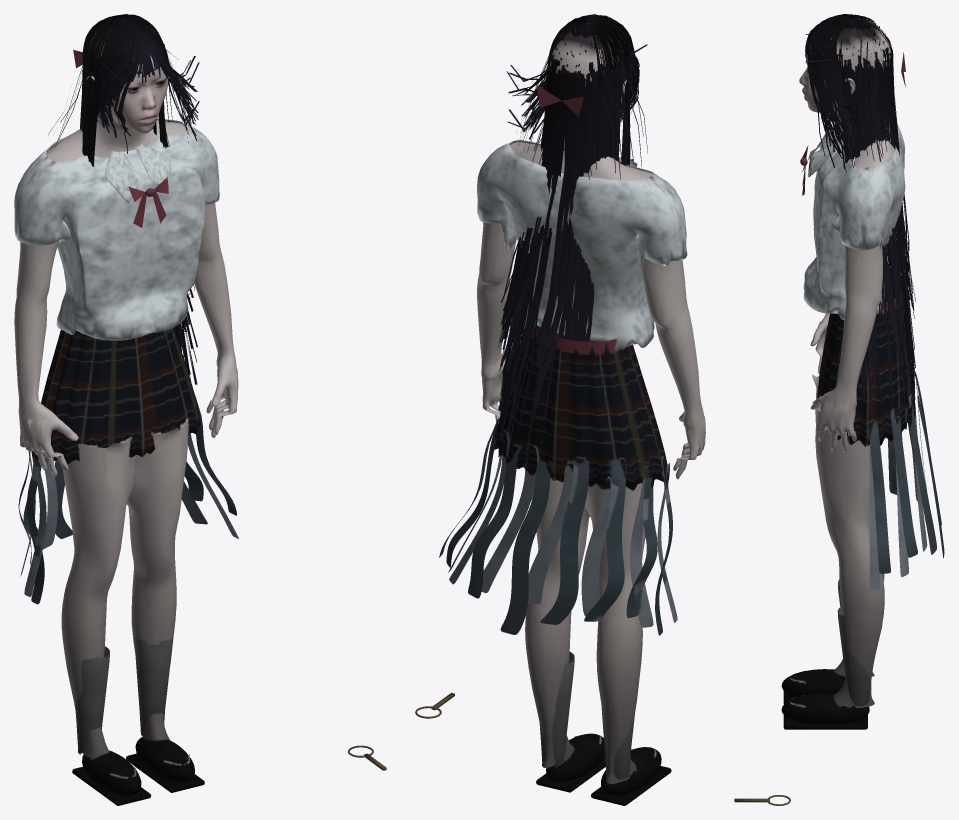
The model's file is rooftop.glb.
The picture shows the model from 3 angles, left to right: view 1: azimuth 30°, elevation 25°; view 2: azimuth 150°, elevation 25°; view 3: azimuth 270°, elevation 25°; orthographic projection. The views are drawn at different scales.
Visible parts, largest first — view 1: GhostBody, GhostHair; view 2: GhostBody, GhostHair; view 3: GhostBody, GhostHair.
Boxes of the visible parts, <box> form: GhostBody: <box>14,18,386,805</box>; GhostHair: <box>48,14,199,384</box>; GhostBody: <box>415,21,705,805</box>; GhostHair: <box>498,14,647,434</box>; GhostBody: <box>734,18,944,805</box>; GhostHair: <box>805,14,915,413</box>.
Bounding box in the file's own units: 0.7511 × 1.72 × 0.4711.
2 materials, 1 textured.
